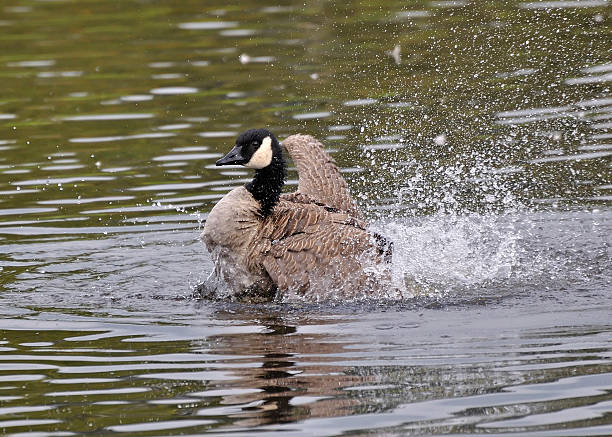goose: (197, 128, 415, 319)
